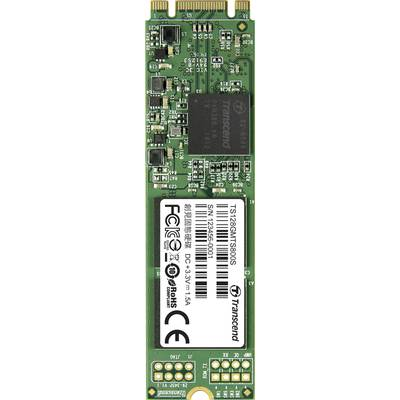ssd2280: (142, 1, 258, 400)
